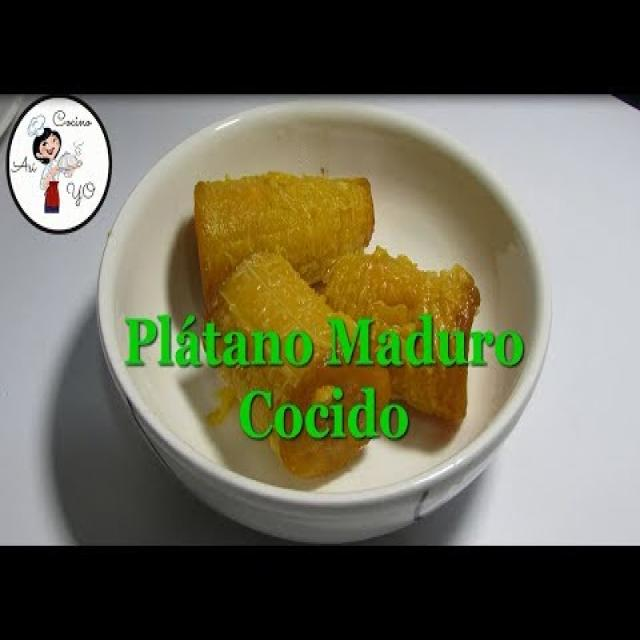platano: (169, 166, 392, 310)
